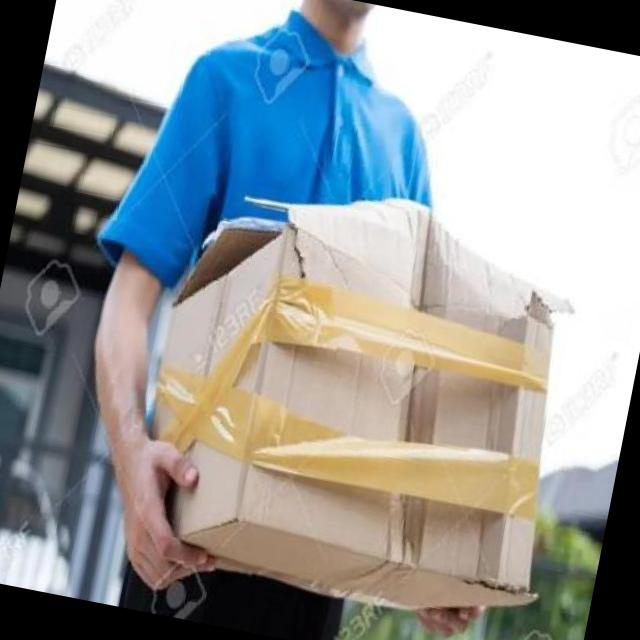box: (149, 197, 550, 612)
crushed: (385, 283, 465, 570)
opened: (176, 198, 318, 308)
